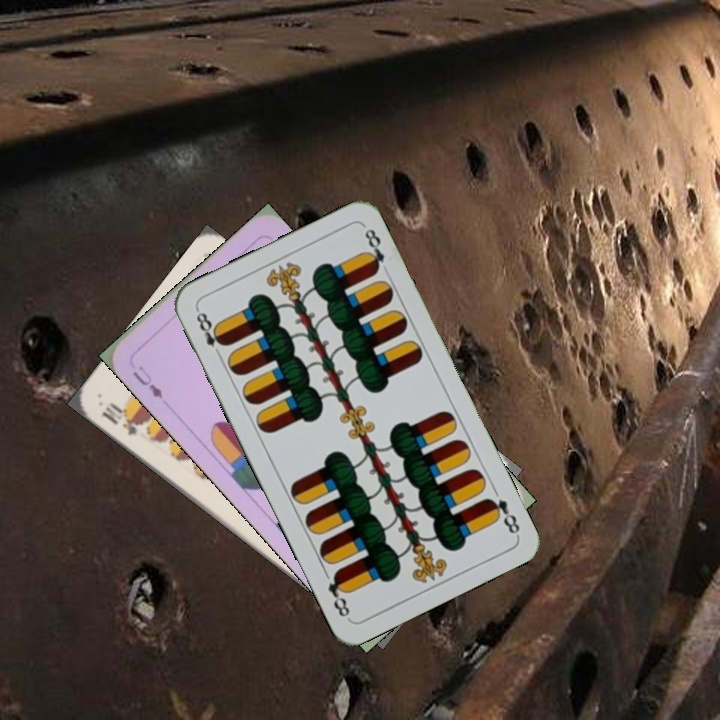E10: (97, 398, 146, 438)
E8: (192, 305, 229, 361), (482, 493, 523, 538)
EU: (128, 361, 166, 401)
